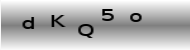5: (100, 8, 114, 22)
K: (50, 14, 66, 28)
Q: (77, 23, 94, 38)
d: (21, 16, 35, 30)
o: (128, 12, 142, 23)
